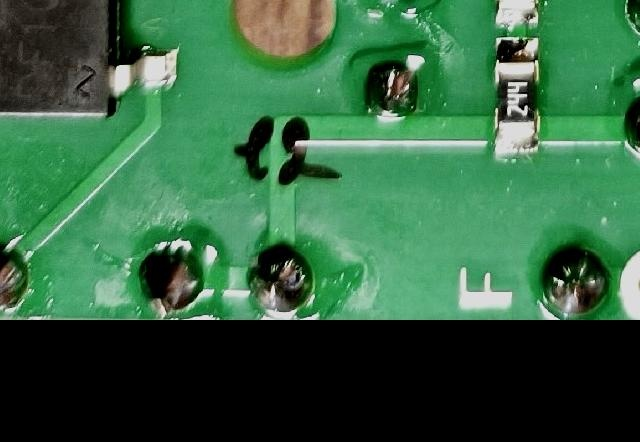chip-resistor: (491, 35, 541, 157)
ic: (0, 0, 180, 121)
